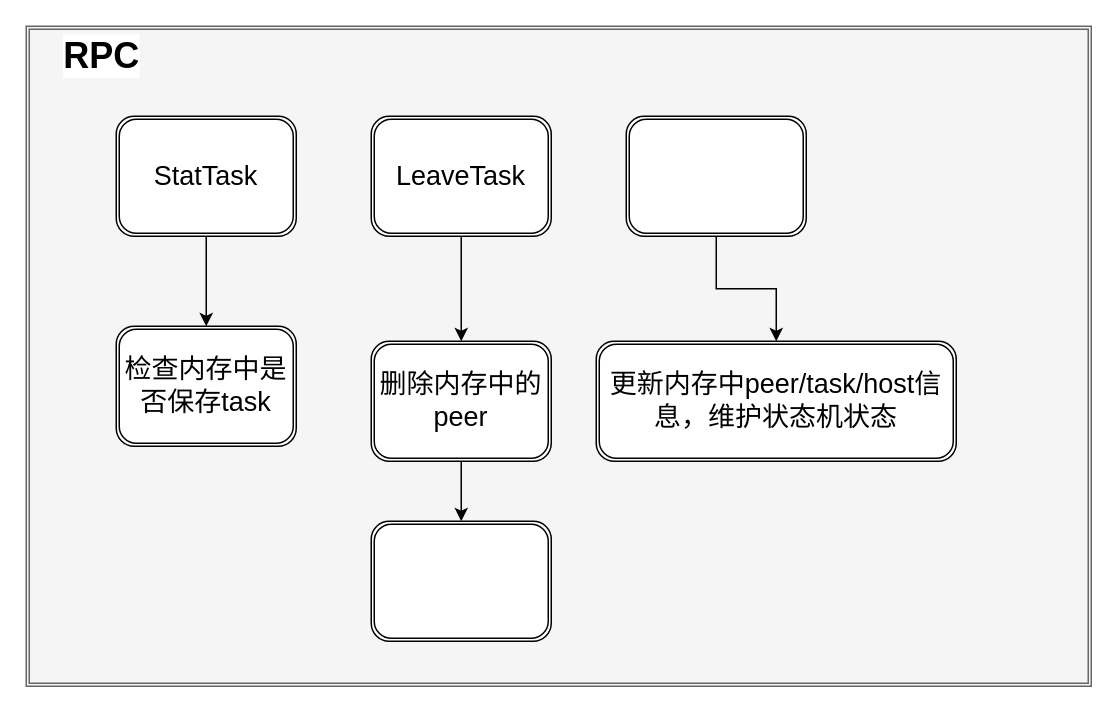
Some shapes in this 1118 by 713 pixel diagram are drawn without their labels. The shapes that lost their labels are listed below. From the top down, each one's centre as x and y in pixels, then its label:
the point at 715,175: AnnouceTask
the point at 460,580: 重新调度它的孩子
